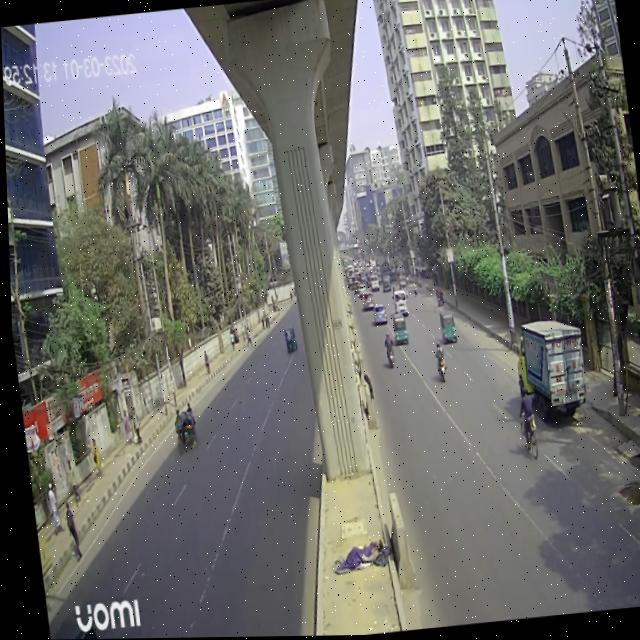cng: (385, 312, 408, 349), (435, 310, 456, 349), (279, 324, 297, 359)
